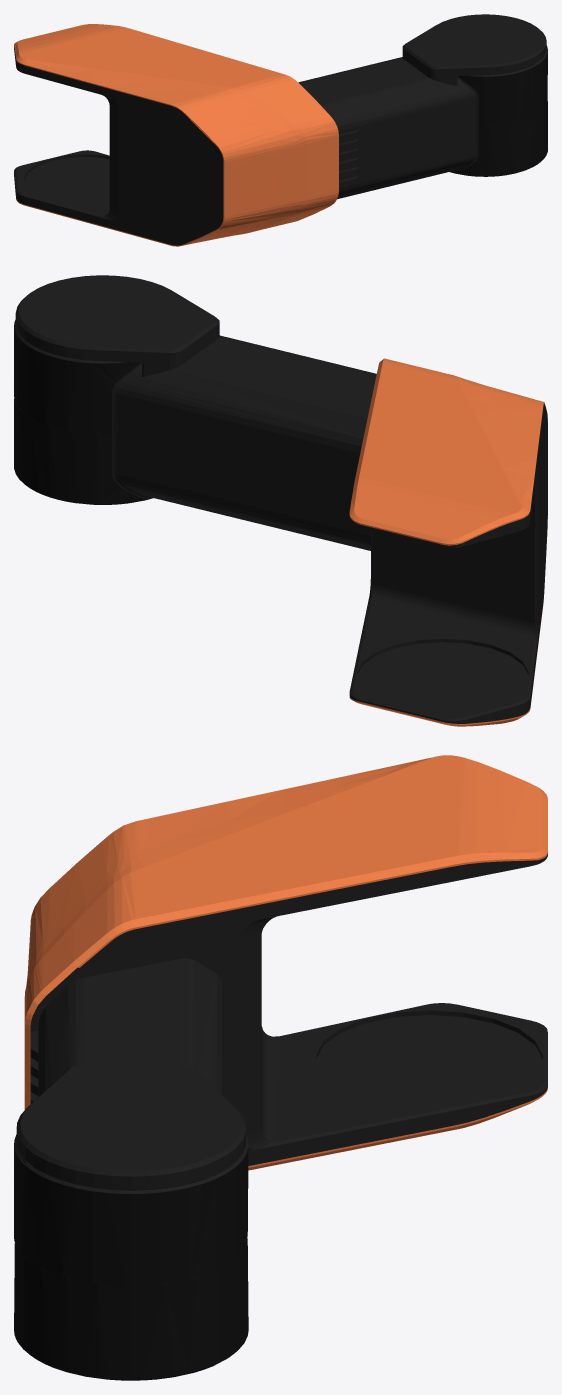
3 views of the same model, one above another, from view 1: azimuth 30°, elevation 25°; view 2: azimuth 150°, elevation 25°; view 3: azimuth 270°, elevation 25° (orthographic). The views are drawn at different scales.
Parts seen in each view (by area): view 1: arm_link3; view 2: arm_link3; view 3: arm_link3.
Boxes of the visible parts, x1=… form: arm_link3: x1=14, y1=14, x2=547, y2=246; arm_link3: x1=14, y1=275, x2=547, y2=726; arm_link3: x1=14, y1=755, x2=547, y2=1380.
Size of the model in its own units: 0.2386 by 0.0764 by 0.1352.
